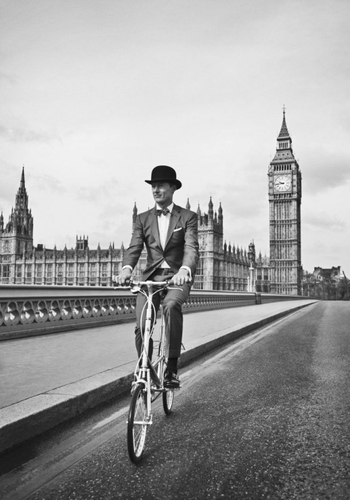bikerider: (111, 155, 199, 455)
